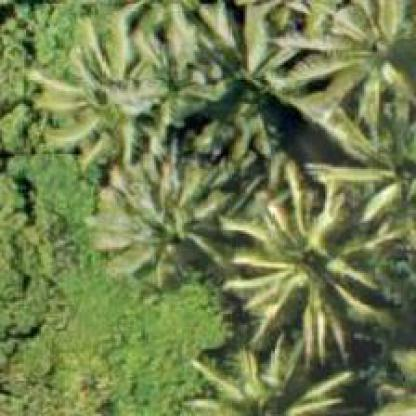coconut tree: (23, 1, 413, 415)
